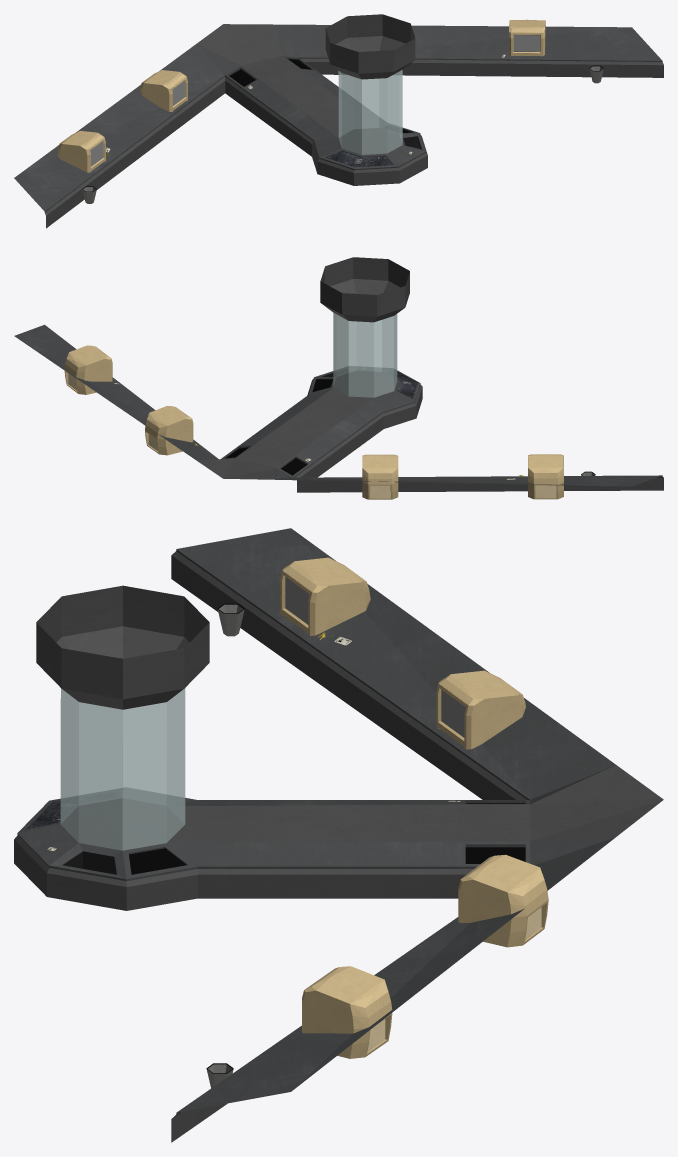
Rendered from control_pannel.fbx.
The picture shows the model from 3 angles, top to bottom: view 1: azimuth 30°, elevation 25°; view 2: azimuth 150°, elevation 25°; view 3: azimuth 270°, elevation 25°; orthographic projection. The views are drawn at different scales.
Parts seen in each view (by area): view 1: controlBase, controlMotherboard; view 2: controlBase, controlMotherboard; view 3: controlBase, controlMotherboard.
Part boxes in pixels (bbox=[...]): controlBase: bbox=[14, 14, 663, 228]; controlMotherboard: bbox=[326, 151, 392, 167]; controlBase: bbox=[14, 257, 663, 499]; controlMotherboard: bbox=[388, 371, 417, 398]; controlBase: bbox=[14, 528, 663, 1142]; controlMotherboard: bbox=[27, 792, 118, 829].
Size of the model in its own units: 3958 by 789 by 1929.
